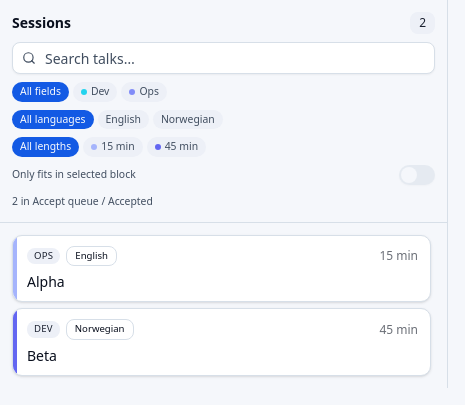
Test case: SessionCatalog › filters sessions by field pill
The image size is (465, 405).
Click the button "Ops" at [144, 92], box [121,82,167,102]
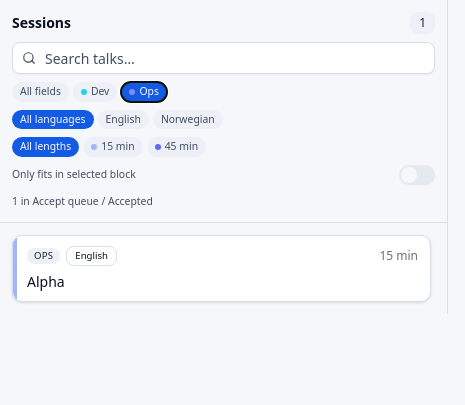
Expected: the heading "Alpha" is shown, [27,272,65,291]
Expected: the heading "Beta" is gone
